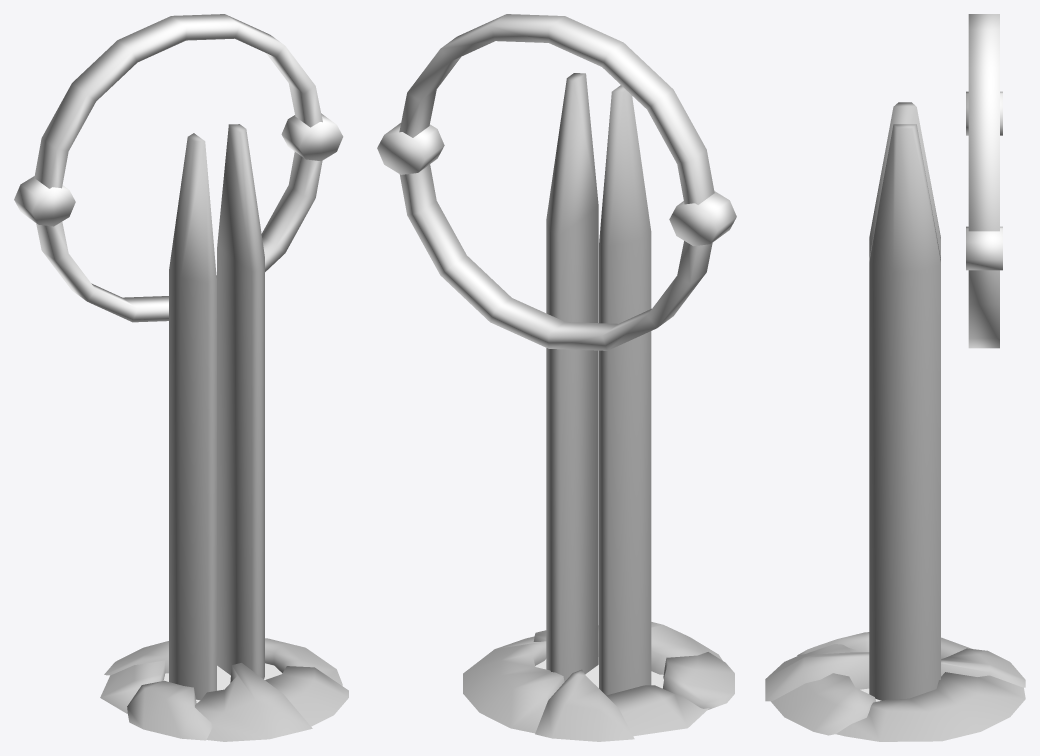
File: BuildingTurret.fbx
3 renders of one model, left to right at view 1: azimuth 30°, elevation 25°; view 2: azimuth 150°, elevation 25°; view 3: azimuth 270°, elevation 25°, orthographic. The views are drawn at different scales.
Visible parts, largest first — view 1: TurretTower, TurretCircle, Turret-Rock; view 2: TurretTower, TurretCircle, Turret-Rock; view 3: TurretTower, Turret-Rock, TurretCircle.
Boxes of the visible parts, x1,y1,x2,y2 form: TurretTower: (169, 124, 264, 700); TurretCircle: (14, 14, 343, 322); Turret-Rock: (100, 638, 348, 741); TurretTower: (546, 73, 651, 695); TurretCircle: (377, 14, 736, 350); Turret-Rock: (463, 622, 734, 741); TurretTower: (869, 102, 940, 700); Turret-Rock: (765, 632, 1025, 741); TurretCircle: (966, 14, 1002, 348).
Size of the model in its own units: 2.65 by 5.2 by 1.86.
